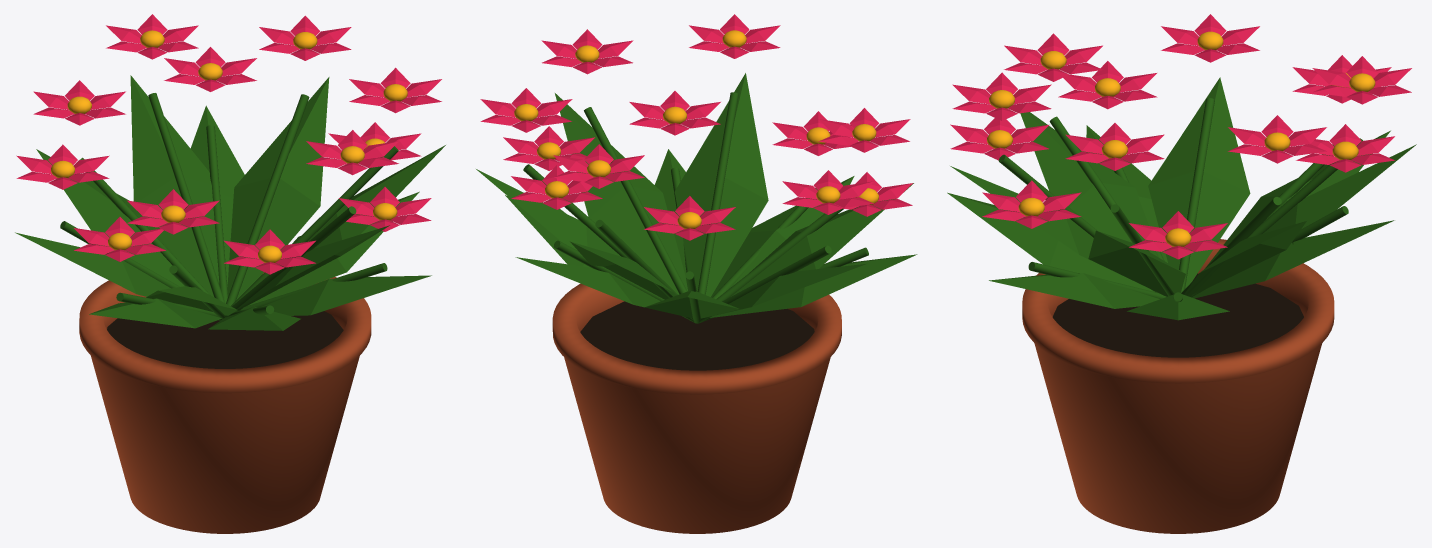
Rendered from Muskatli_cserepben.obj.
The picture shows the model from 3 angles, left to right: view 1: azimuth 30°, elevation 25°; view 2: azimuth 150°, elevation 25°; view 3: azimuth 270°, elevation 25°; orthographic projection. The views are drawn at different scales.
Bounding box in the file's own units: 0.4176 × 0.404 × 0.4081.
